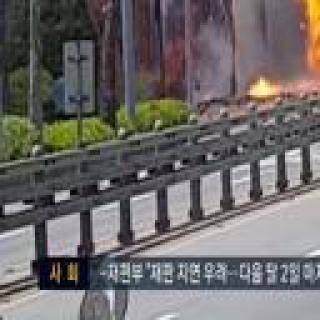fire: (286, 0, 320, 80), (243, 75, 273, 105)
